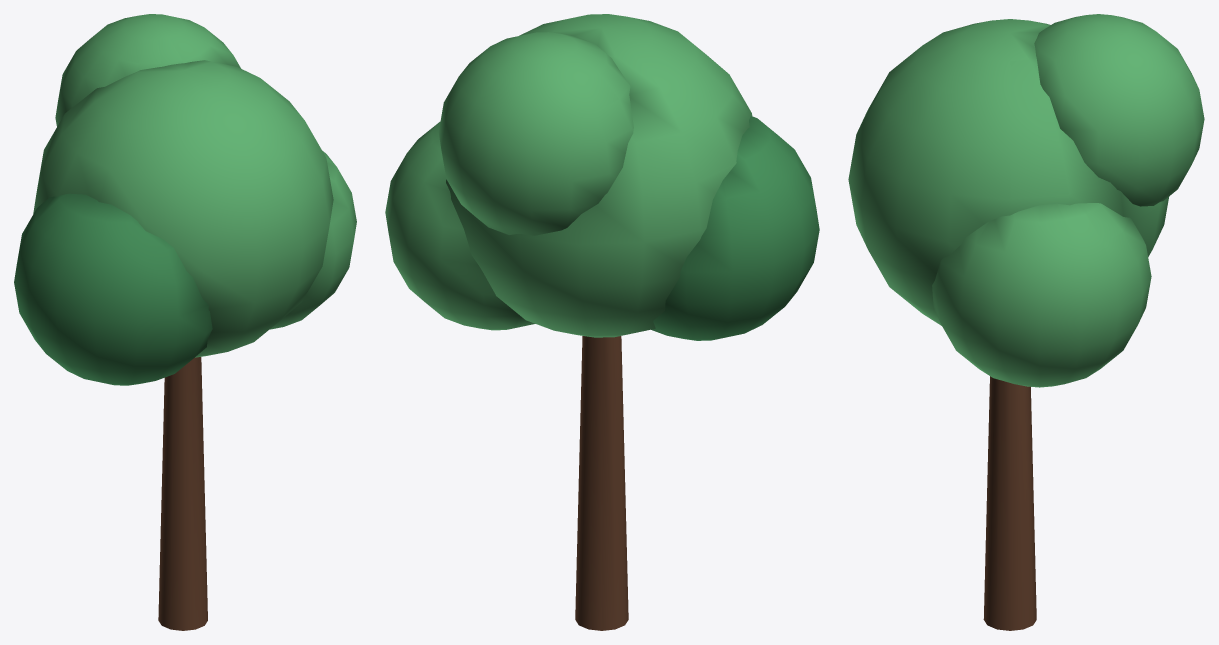
File: tree.glb
3 views of the same model, side by side, from view 1: azimuth 30°, elevation 25°; view 2: azimuth 150°, elevation 25°; view 3: azimuth 270°, elevation 25° (orthographic). The views are drawn at different scales.
Parts seen in each view (by area): view 1: tree; view 2: tree; view 3: tree.
Boxes of the visible parts, x1,y1,x2,y2 form: tree: [14, 14, 356, 630]; tree: [385, 14, 819, 630]; tree: [848, 14, 1204, 630].
Size of the model in its own units: 1.45 by 2.26 by 1.21.
